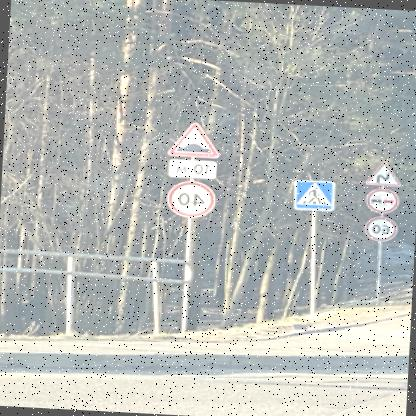crosswalk: (296, 177, 338, 209)
speedlimit: (169, 178, 217, 218), (367, 215, 399, 241)
